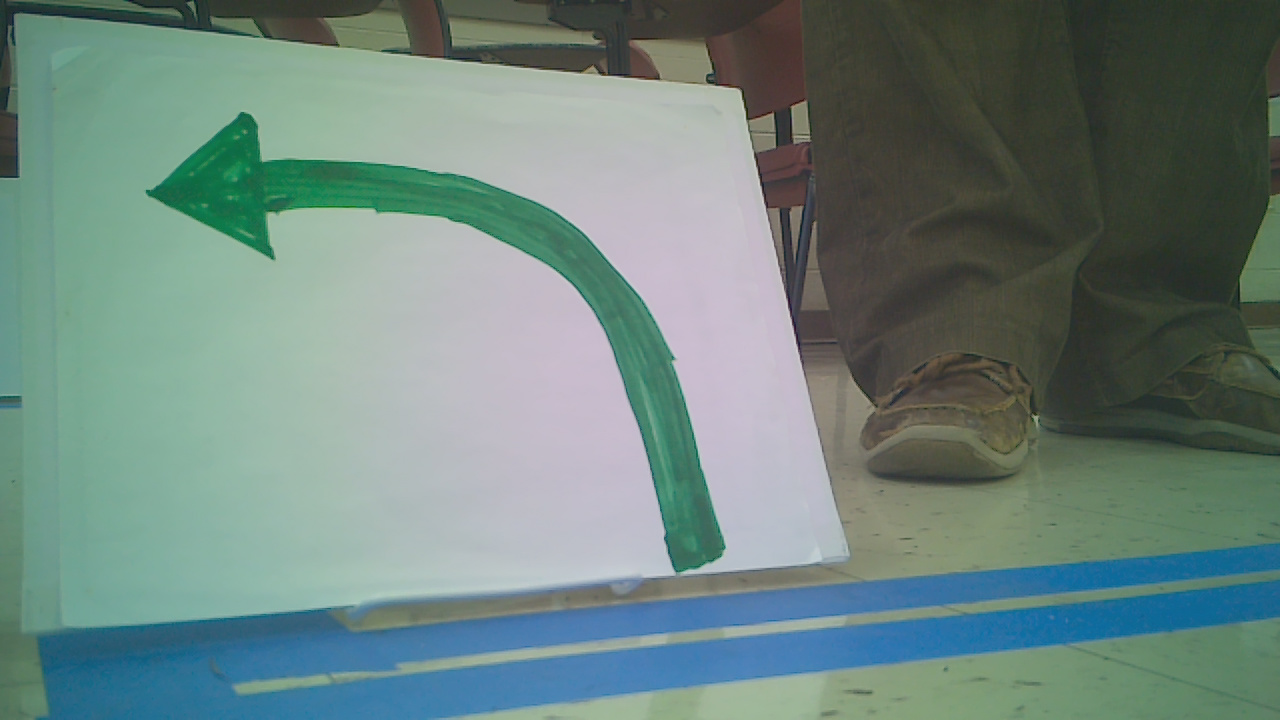left: (147, 108, 742, 564)
